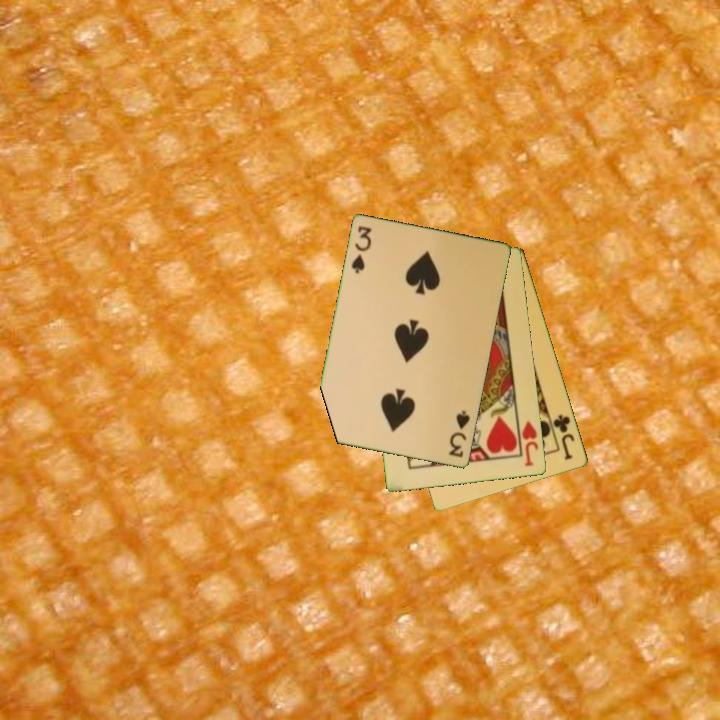3s: (446, 407, 473, 461), (348, 223, 375, 277)
Jc: (550, 411, 578, 463)
Jh: (514, 414, 541, 469)
